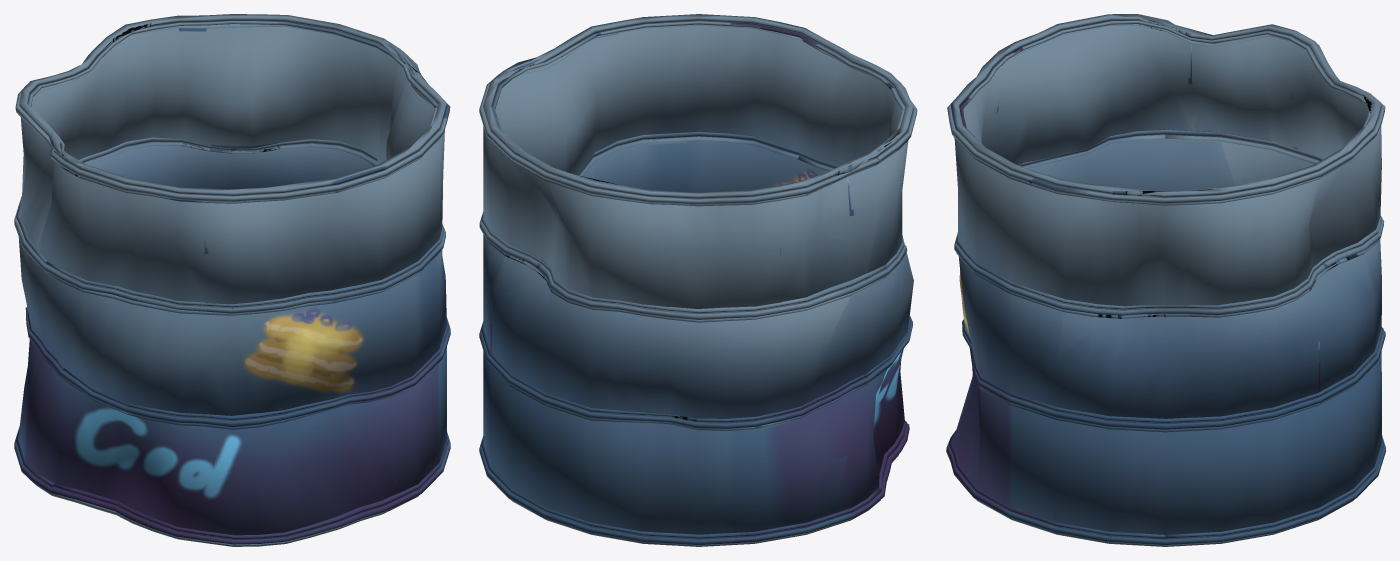
File: bucket-right1.fbx
The picture shows the model from 3 angles, left to right: view 1: azimuth 30°, elevation 25°; view 2: azimuth 150°, elevation 25°; view 3: azimuth 270°, elevation 25°; orthographic projection.
Parts seen in each view (by area): view 1: bucket-right1; view 2: bucket-right1; view 3: bucket-right1.
Boxes of the visible parts, bbox=[...] form: bucket-right1: bbox=[14, 14, 450, 546]; bucket-right1: bbox=[479, 14, 917, 546]; bucket-right1: bbox=[946, 14, 1385, 546].
Bounding box in the file's own units: 146 × 132 × 146.
